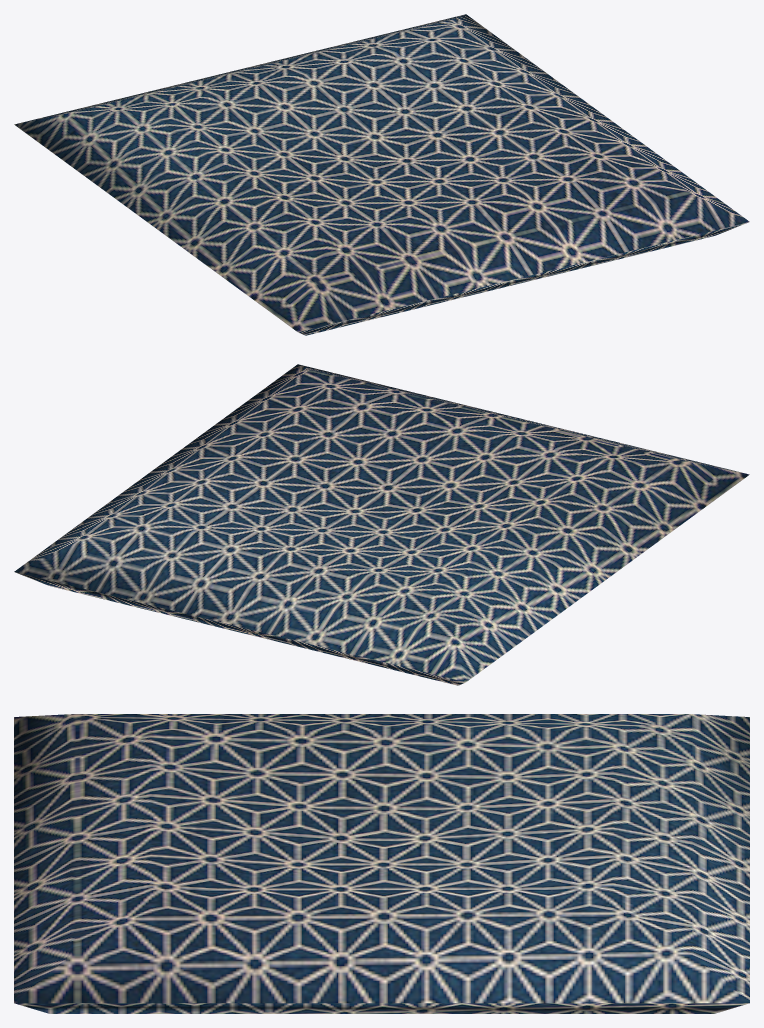
Rendered from zabuton.fbx.
3 views of the same model, one above another, from view 1: azimuth 30°, elevation 25°; view 2: azimuth 150°, elevation 25°; view 3: azimuth 270°, elevation 25° (orthographic). The views are drawn at different scales.
Visible parts, largest first — view 1: zabuton; view 2: zabuton; view 3: zabuton.
Boxes of the visible parts, x1,y1,x2,y2 form: zabuton: (14, 14, 749, 335); zabuton: (14, 364, 749, 685); zabuton: (14, 714, 749, 1013).
Size of the model in its own units: 55.2 by 7.5 by 60.
